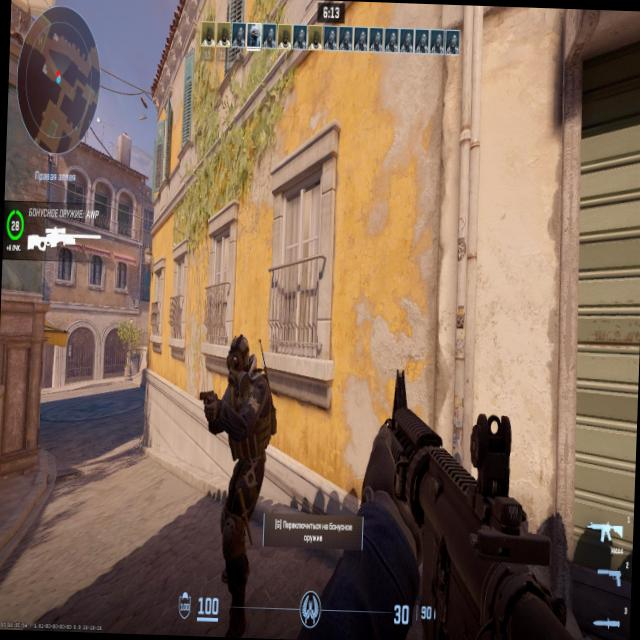CT: (212, 333, 266, 569)
CT_heat: (227, 349, 254, 386)
